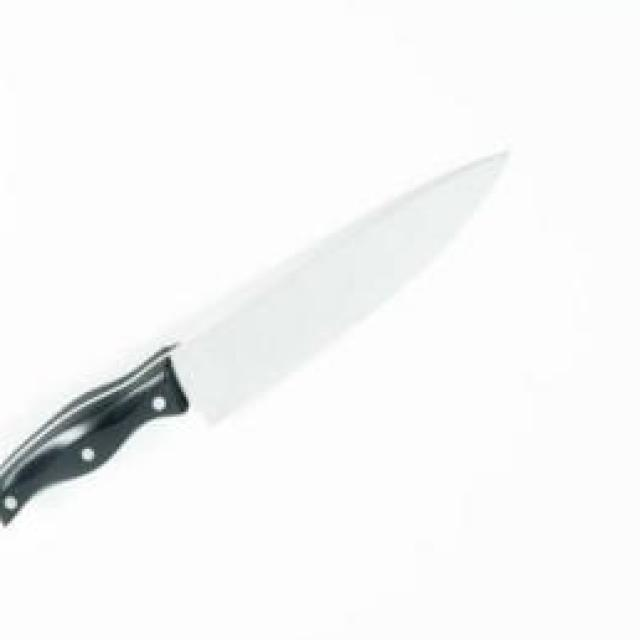knife: (0, 142, 513, 546)
